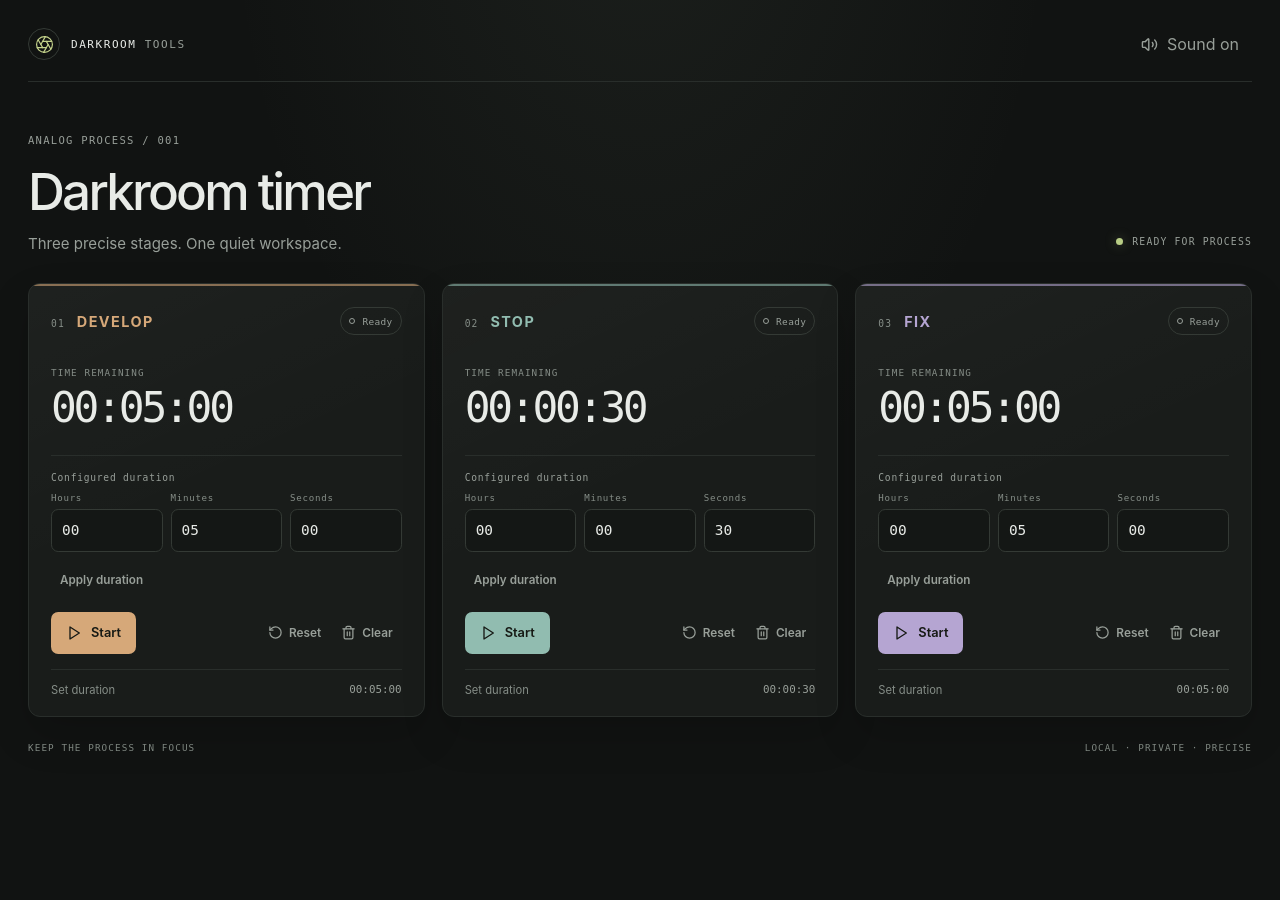
Scenario: darkroom timer interactions › renders three configurable timers and starts one
Expected: the heading "DEVELOP" is shown, [77,312,154,330]
Expected: the heading "STOP" is shown, [490,312,535,330]
Step 1. Click the button "Start" below "DEVELOP" → (94,633), box [51,612,136,654]
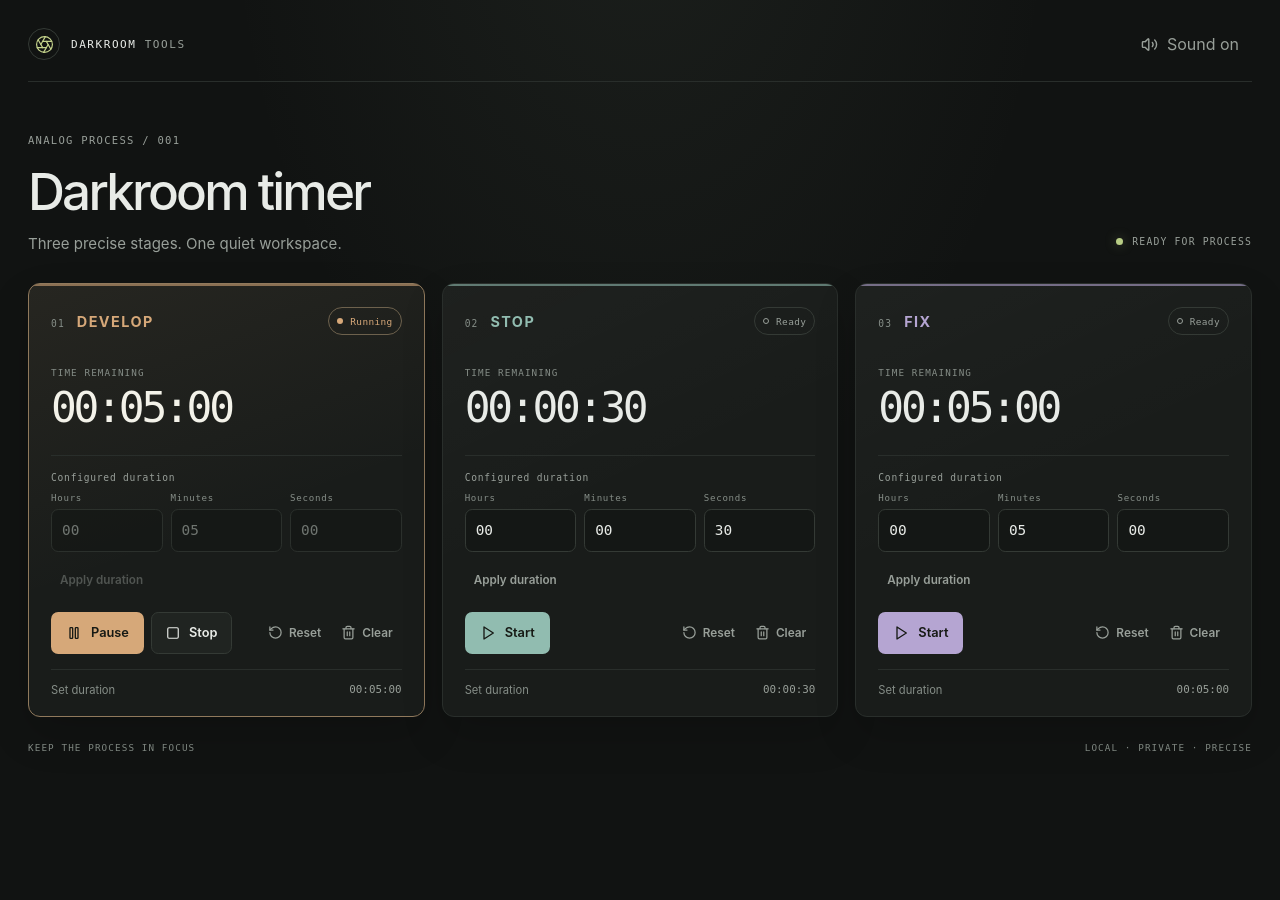
Now the text "Running" is shown, box [328,307,402,335]
